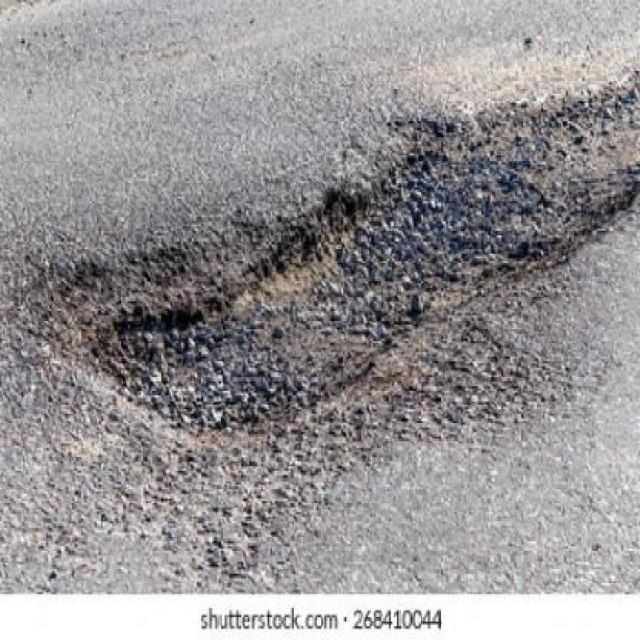Buraco: (1, 69, 640, 458)
